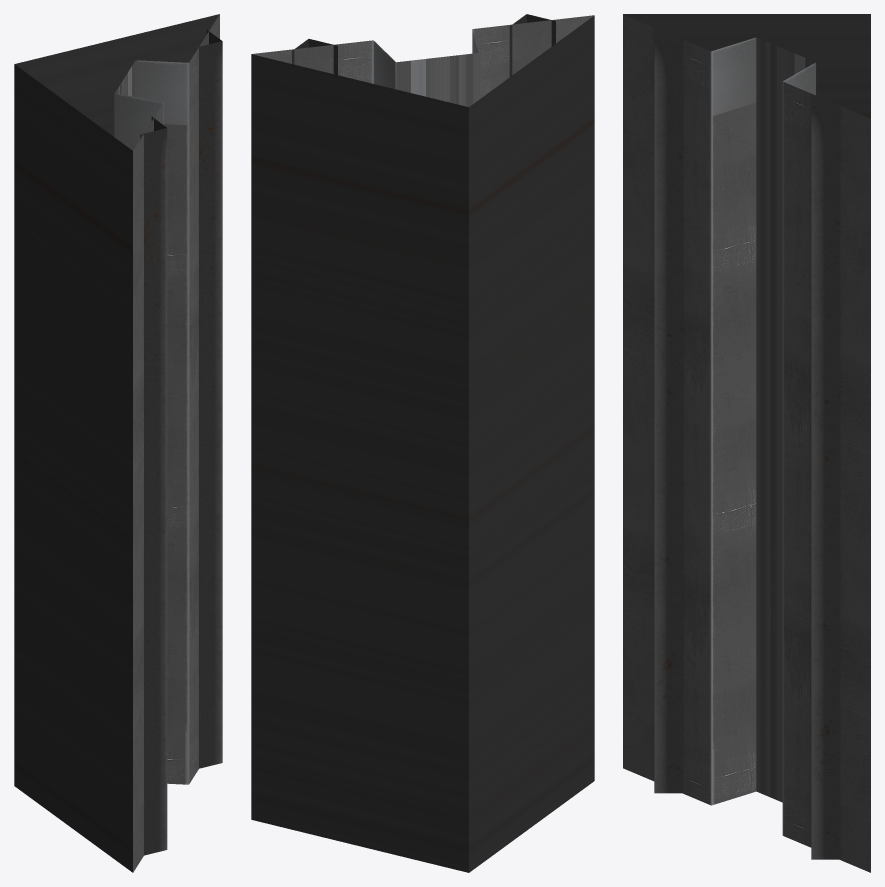
File: Atype_Frame_mid.fbx
3 views of the same model, side by side, from view 1: azimuth 30°, elevation 25°; view 2: azimuth 150°, elevation 25°; view 3: azimuth 270°, elevation 25° (orthographic). The views are drawn at different scales.
Visible parts, largest first — view 1: AFrame_mid011, cain; view 2: AFrame_mid011, cain; view 3: AFrame_mid011, cain.
Part boxes in pixels (<box>): AFrame_mid011: <box>14,14,222,872</box>; cain: <box>114,60,135,137</box>; AFrame_mid011: <box>251,14,594,872</box>; cain: <box>395,53,479,106</box>; AFrame_mid011: <box>623,14,870,872</box>; cain: <box>755,37,816,802</box>.
Size of the model in its own units: 29.77 by 100 by 29.77.
Materials: 1 (1 with a texture image).
